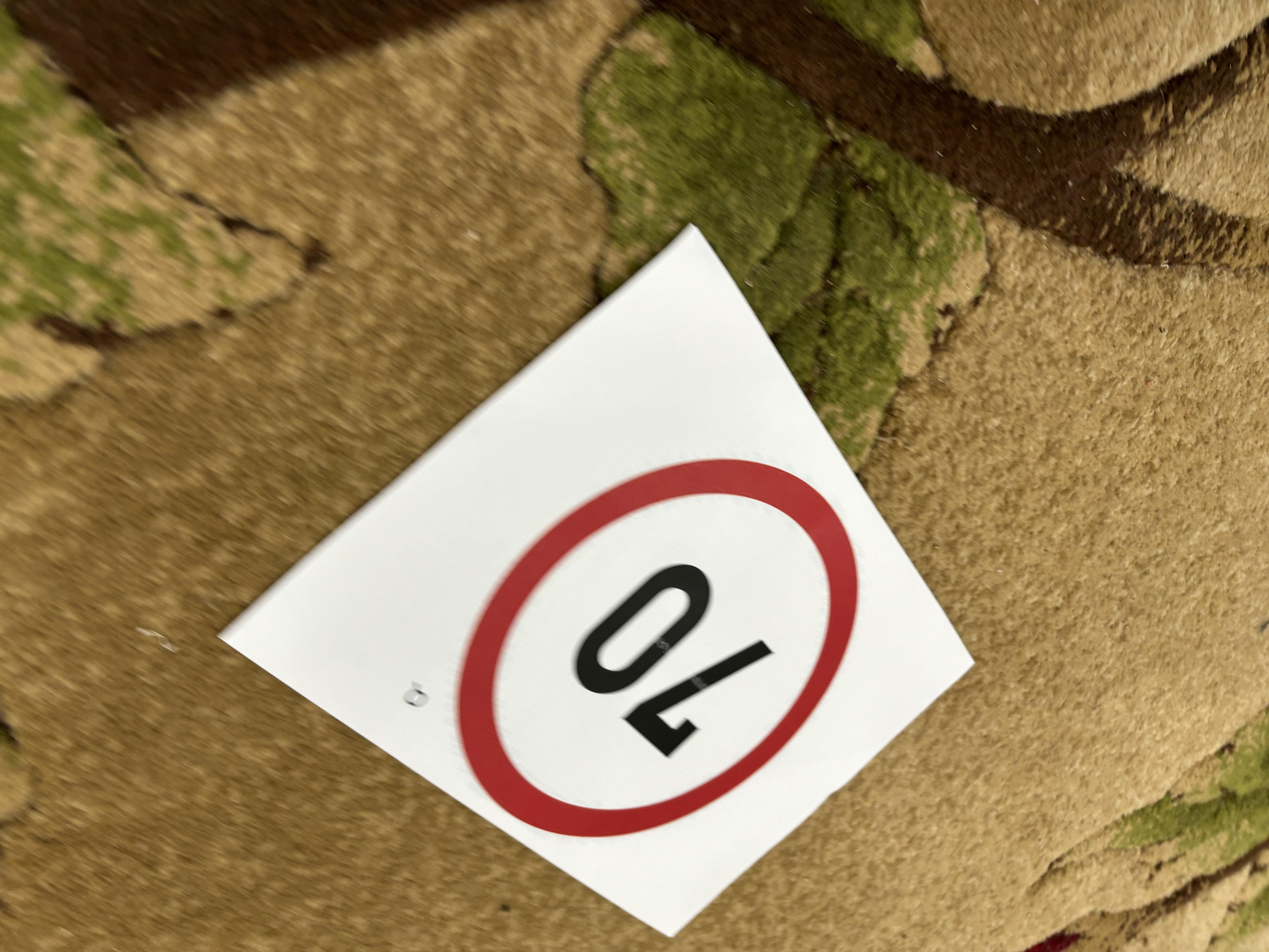70-Speed: (449, 456, 860, 835)
